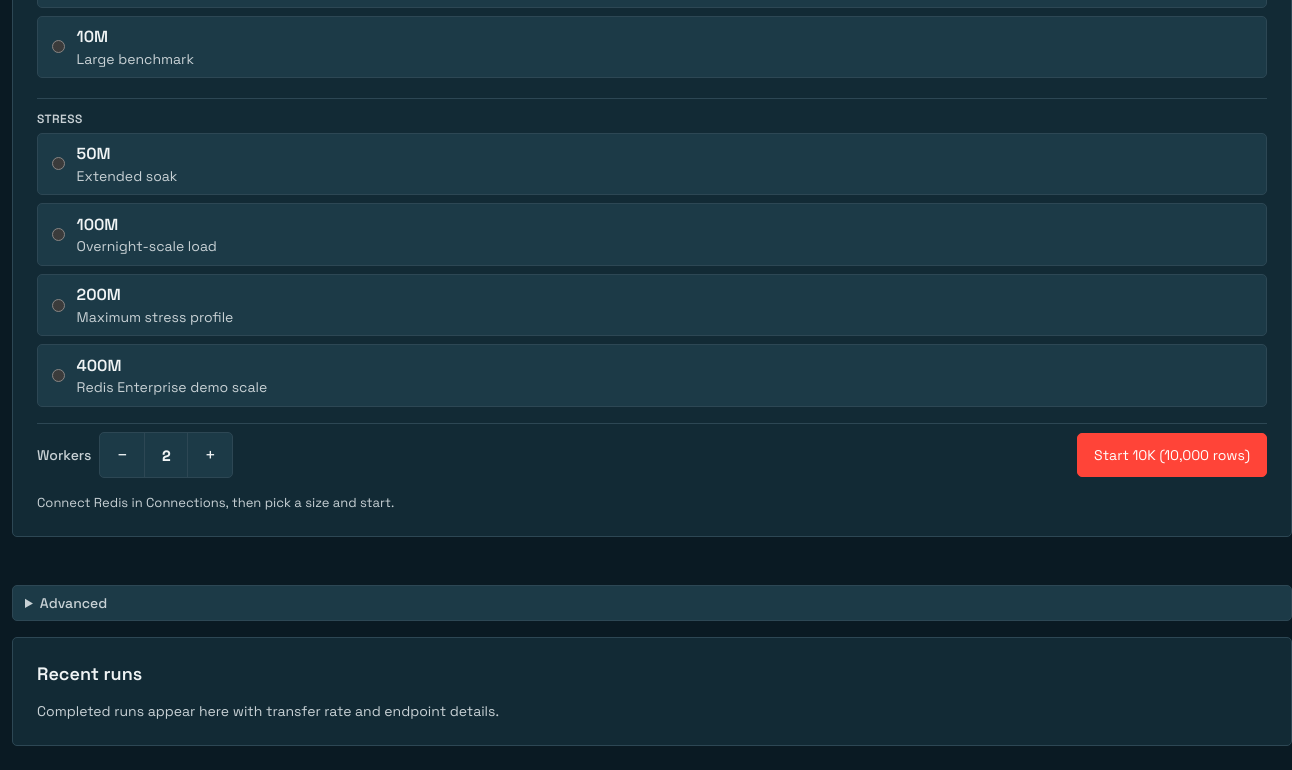
it: IngestPanel — bulk progress › renders progress bar driven by rows_written during an active run
(page scrolled)
Click the button with test id "ingest-preset-start-btn": point(1172, 455) [1077, 433, 1267, 477]
(page scrolled)
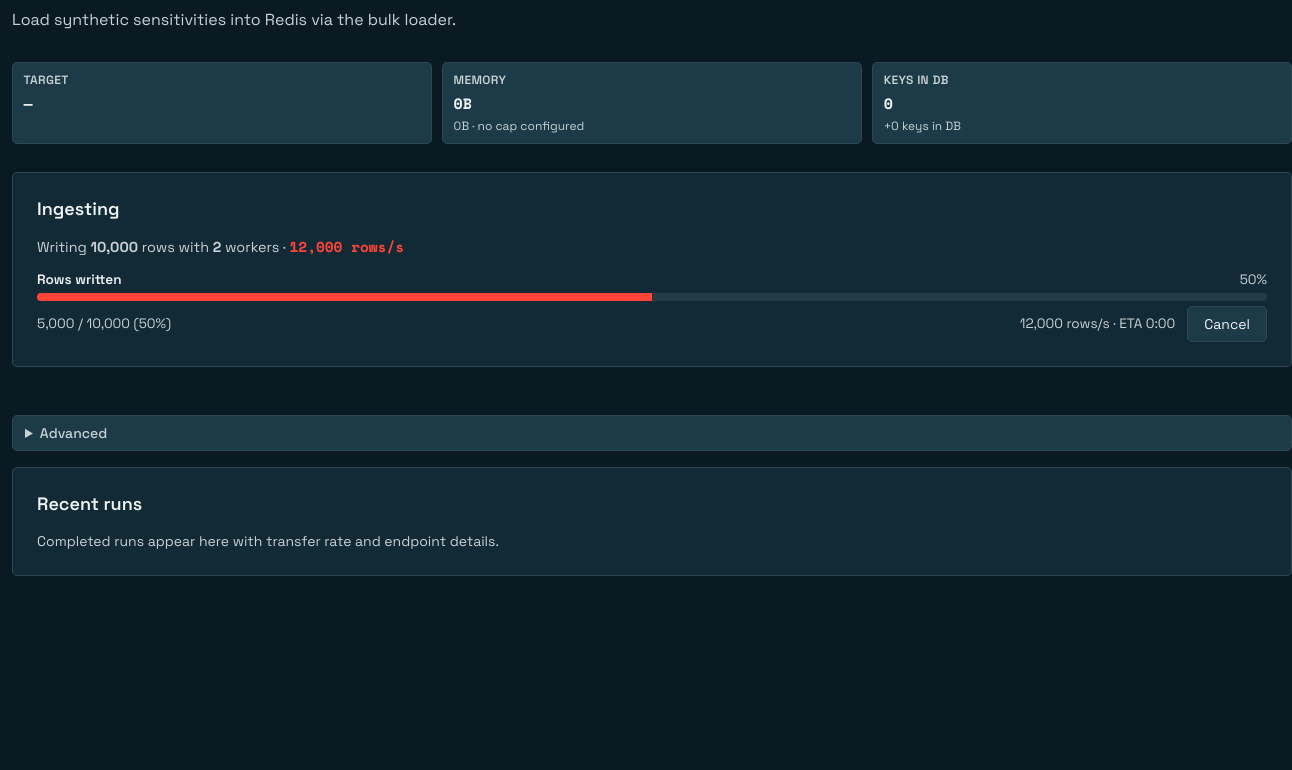
Now the element with test id "ingest-run-card" is shown, box [37, 265, 1267, 342]
Now the text with test id "phase-progress-ingest-text" reads "5,000 / 10,000 (50%)", box [37, 315, 171, 332]
